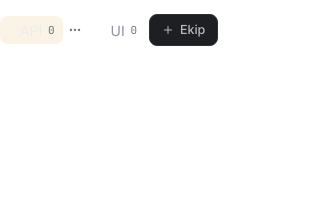
Scenario: TeamTabs › seçili ekibin … düğmesi menüyü açıyor
This screenshot has width=320, height=213.
Click the button named "API menüsü" at (75, 30), box [63,18,87,42]
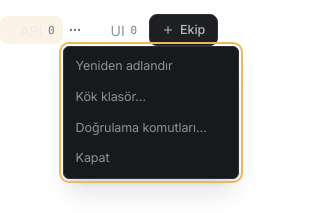
Check: the menu item "Yeniden adlandır" is shown, box [68,51,234,82]
